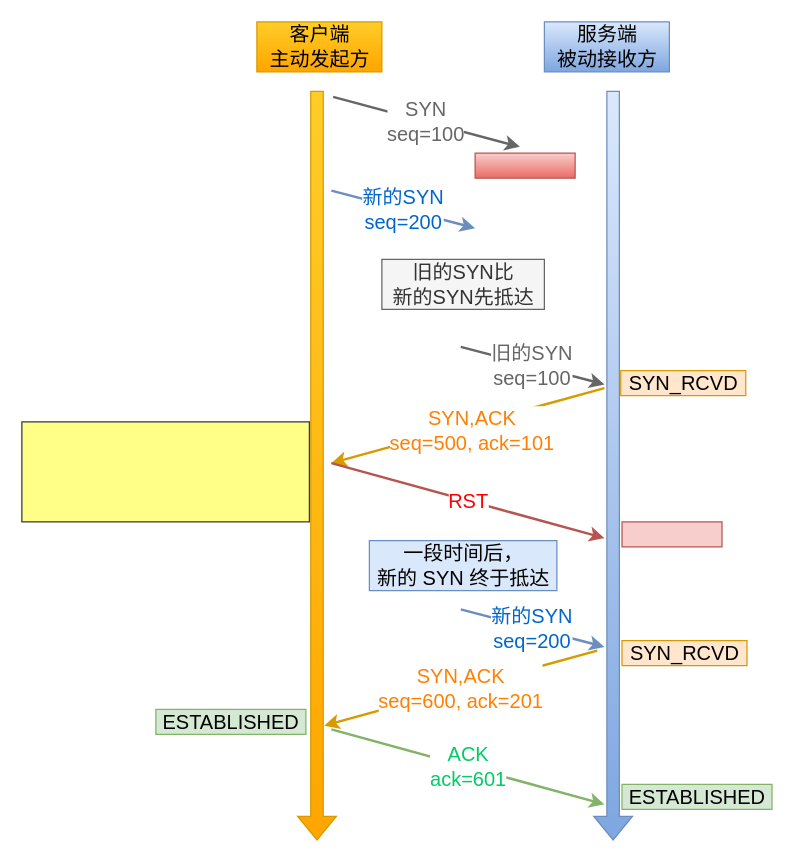
Image size: 795x863. Some labels were removed from this diagram. The centre of each missing label's shape, as x and y in pixels:
"客户端通过上下文比较 发现自己期望收到的 ack 应该是201，而不是101， 所以发起了 RST 报文中止连接" belongs at (165,471).
"网络阻塞" belongs at (524,165).
"连接中止" belongs at (671,534).
